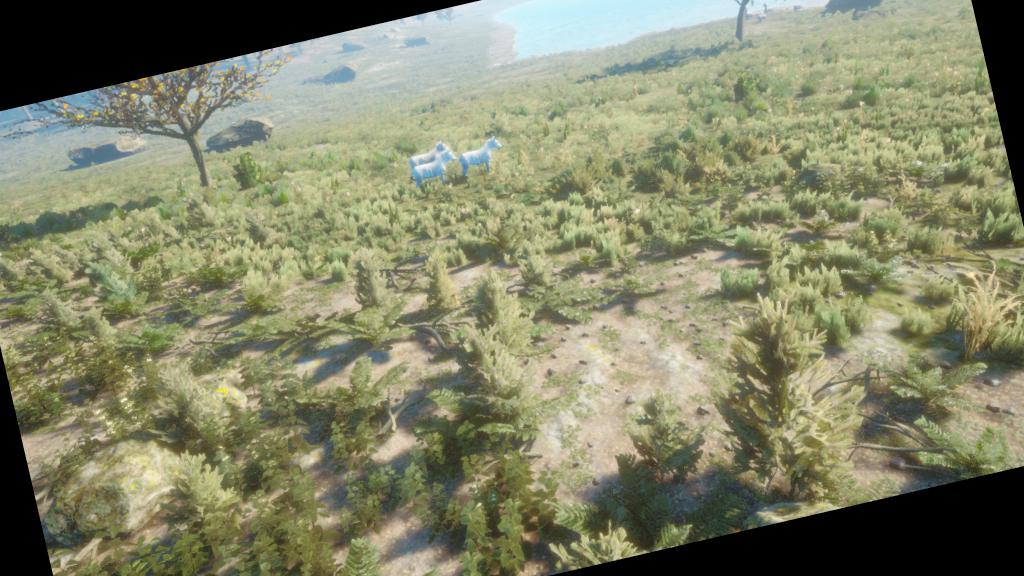zebra: (452, 126, 516, 190), (406, 146, 468, 200)
